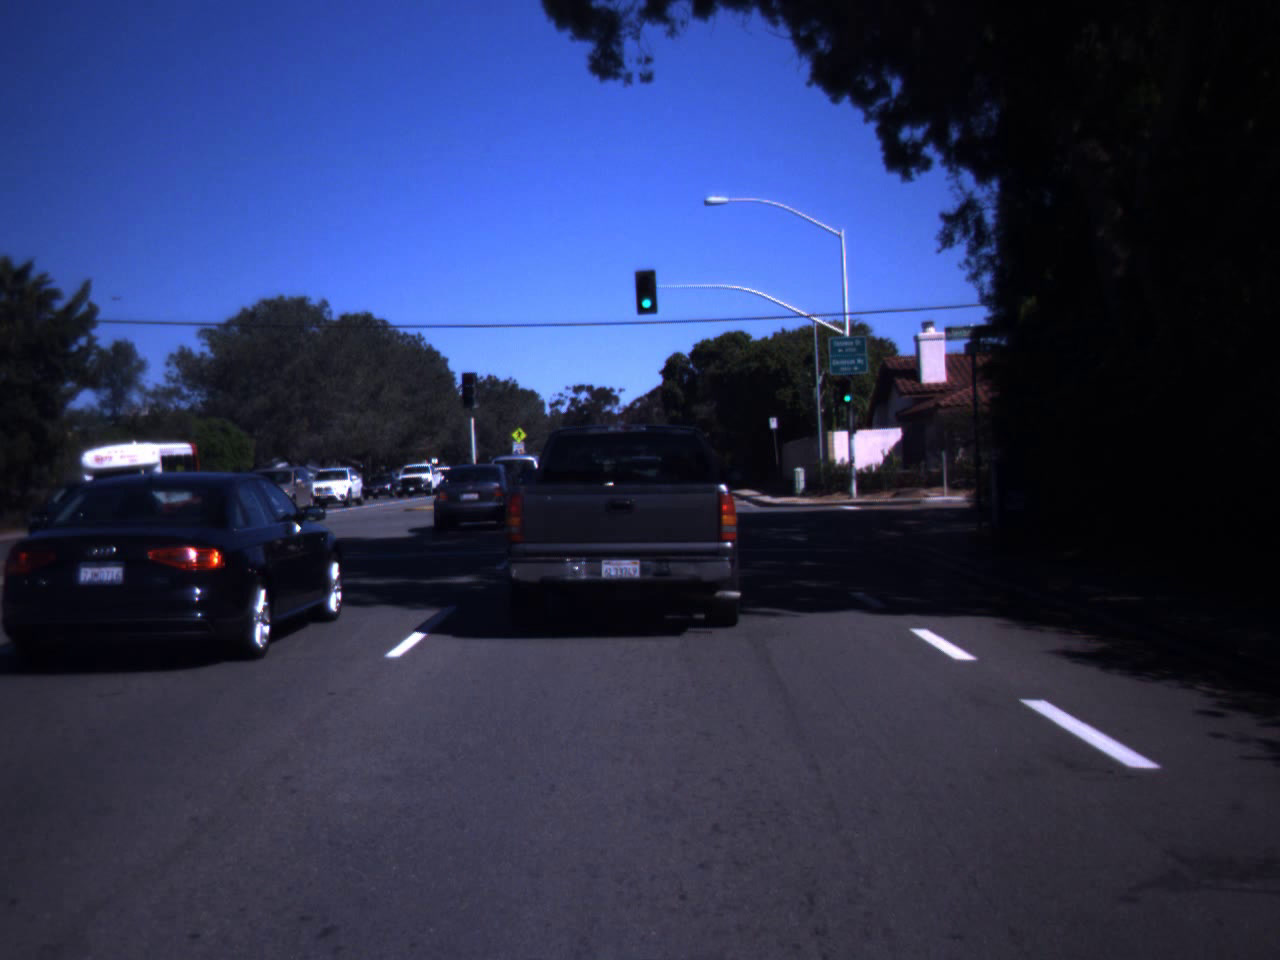go: (636, 275, 657, 310), (842, 382, 854, 402)
